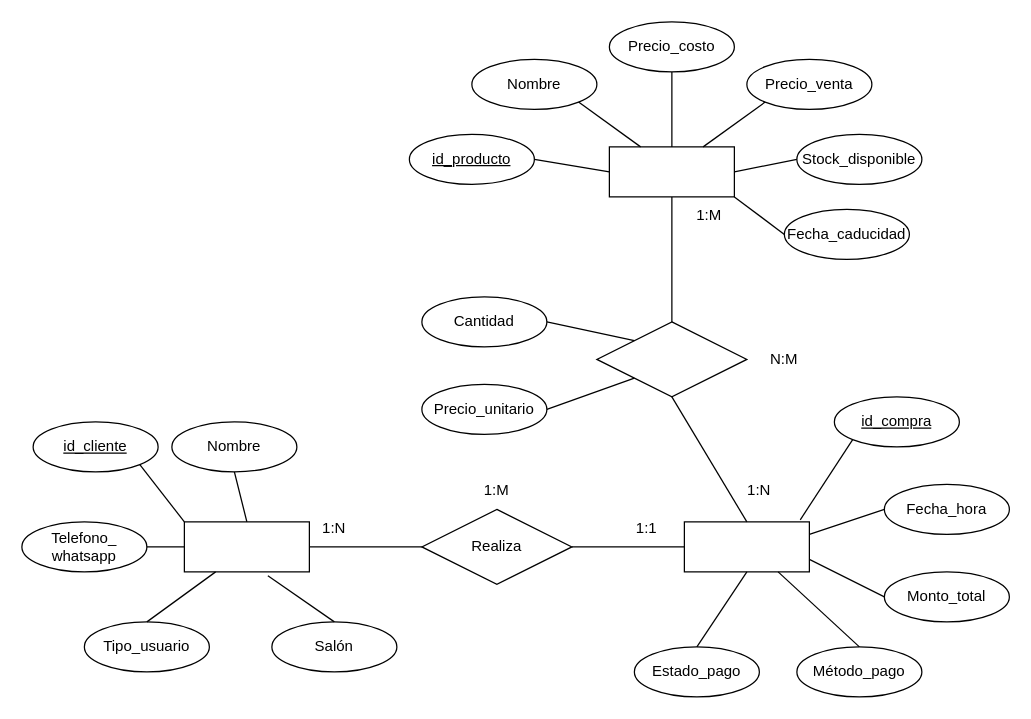
Image size: 1031x719. Some labels were removed from this diagram. Each missing label, with the centre of its shape:
CLIENTE: (x=246, y=546)
COMPRA: (x=746, y=546)
Contiene: (x=671, y=359)
PRODUCTO: (x=671, y=171)
